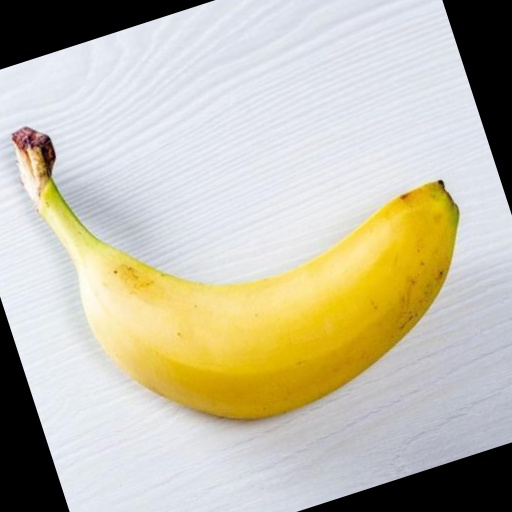fruit: (0, 120, 90, 286)
